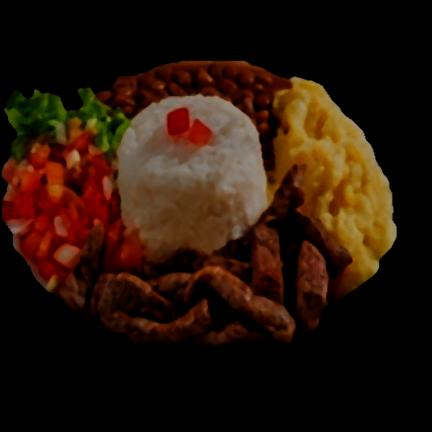beans: (100, 61, 292, 170)
meat: (60, 166, 351, 348)
potato: (269, 78, 397, 301)
rice: (117, 95, 268, 263)
salad: (5, 88, 129, 161)
tomato: (1, 115, 142, 283)
